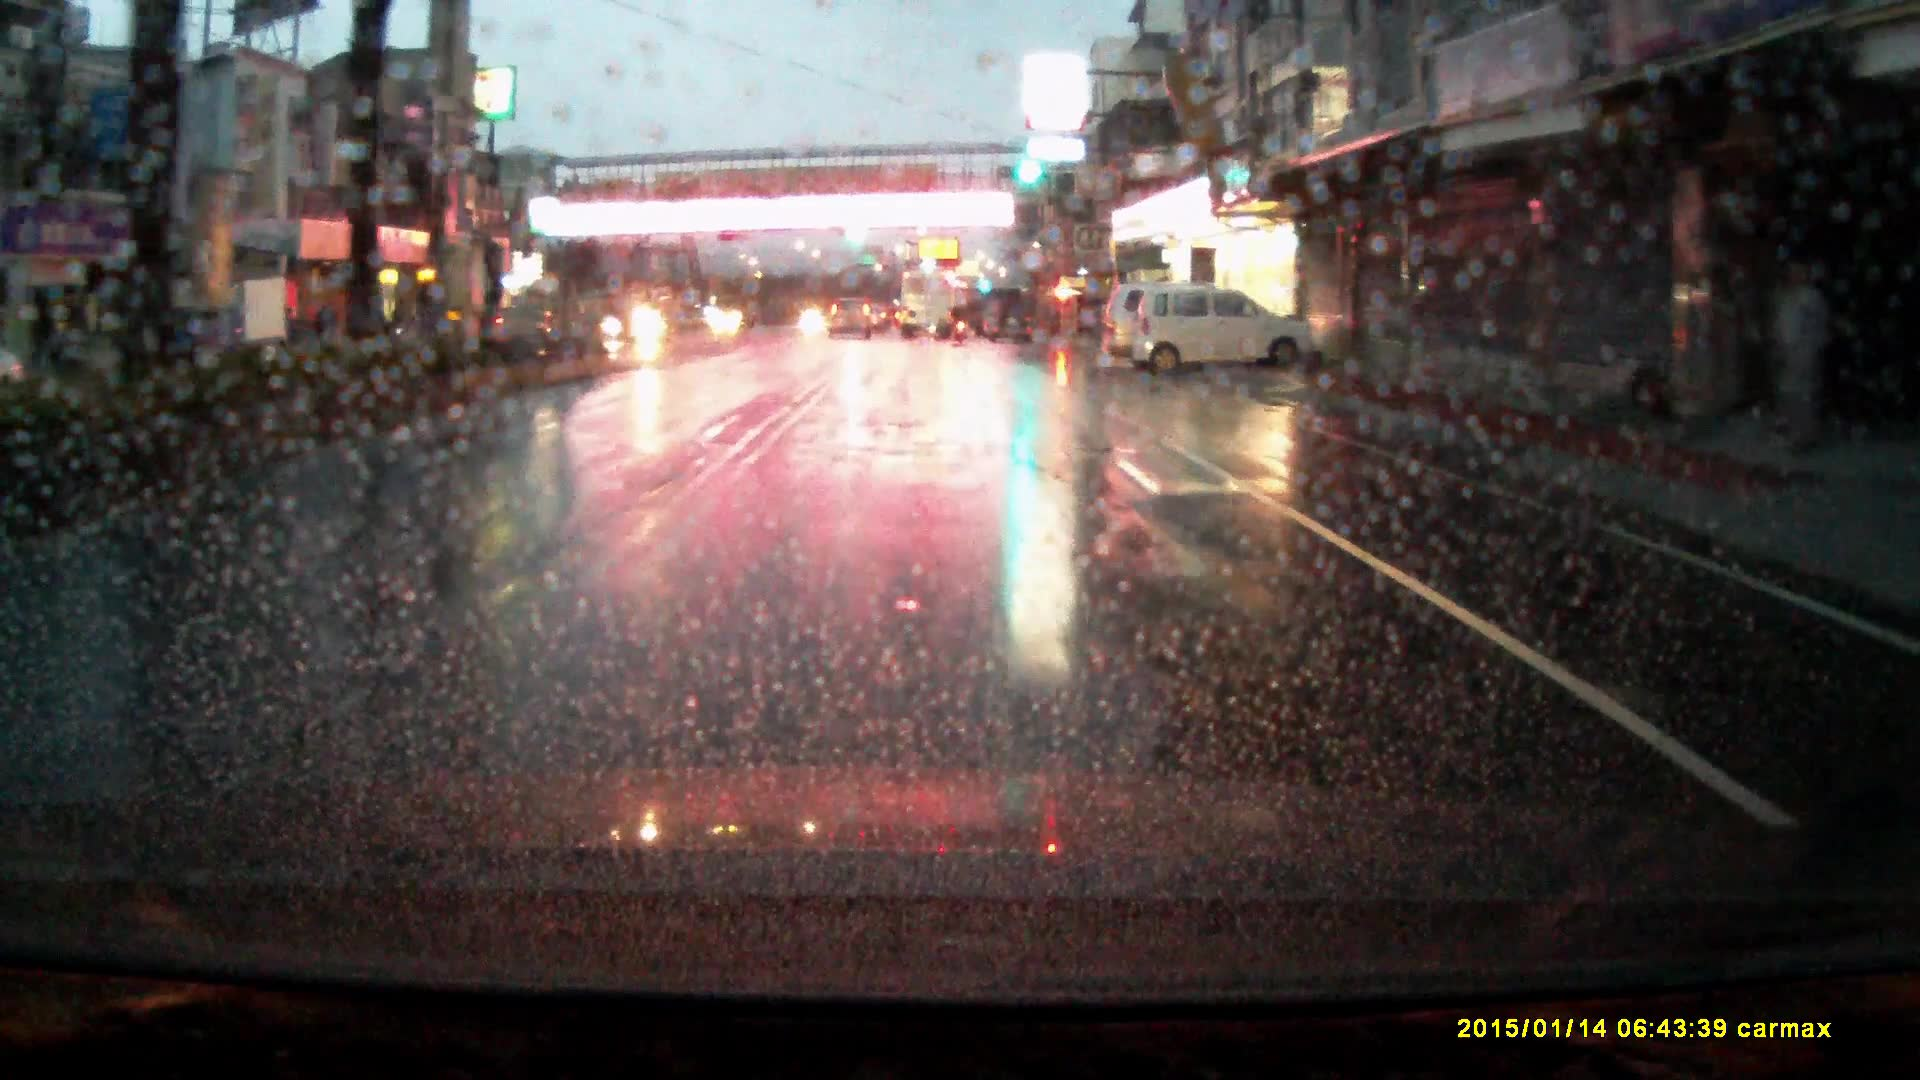rider: (952, 301, 972, 348)
vehicle: (1130, 286, 1315, 377), (169, 281, 282, 365), (1100, 287, 1211, 370), (602, 291, 682, 347), (900, 274, 949, 343), (987, 299, 1036, 348), (828, 301, 872, 345)
